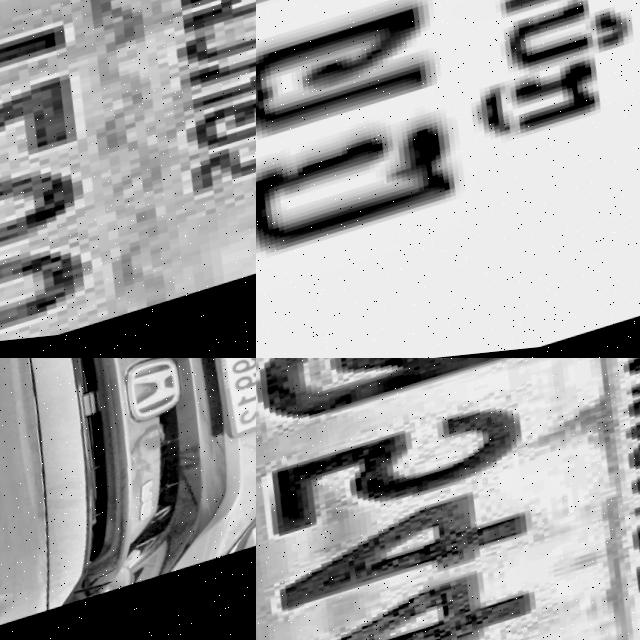license-plate: (256, 0, 640, 358), (256, 358, 640, 640), (0, 0, 256, 358), (204, 358, 256, 458)
